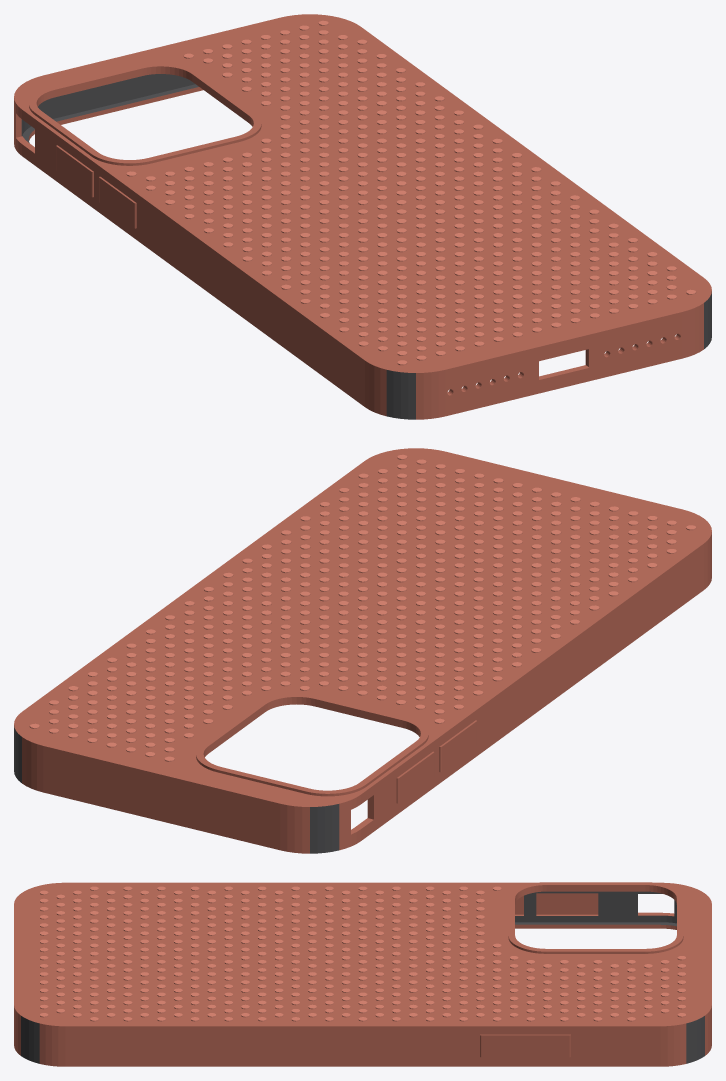
The model's file is kilif-pro-max-nokta-mercan.glb.
The picture shows the model from 3 angles, top to bottom: view 1: azimuth 30°, elevation 25°; view 2: azimuth 150°, elevation 25°; view 3: azimuth 270°, elevation 25°; orthographic projection. The views are drawn at different scales.
Parts seen in each view (by area): view 1: Kilif; view 2: Kilif; view 3: Kilif.
Boxes of the visible parts, x1=… form: Kilif: x1=14, y1=14, x2=711, y2=419; Kilif: x1=14, y1=448, x2=711, y2=853; Kilif: x1=14, y1=882, x2=711, y2=1066.
Bounding box in the file's own units: 0.0819 × 0.0112 × 0.1664.
